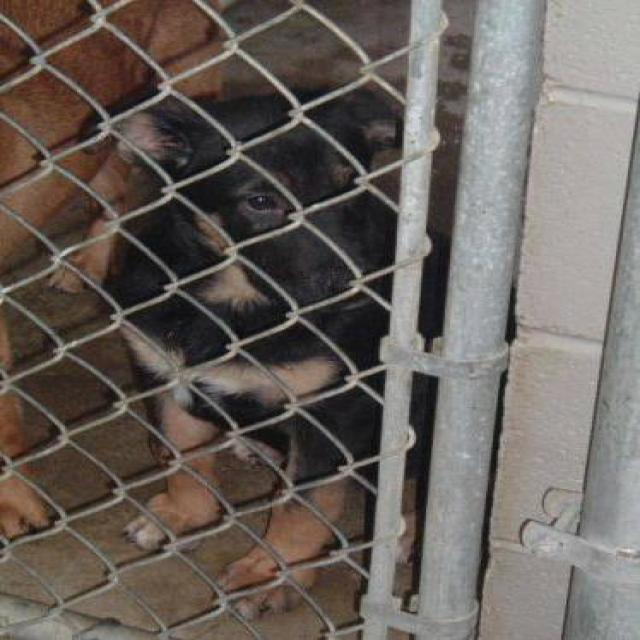dog: (67, 74, 438, 620)
